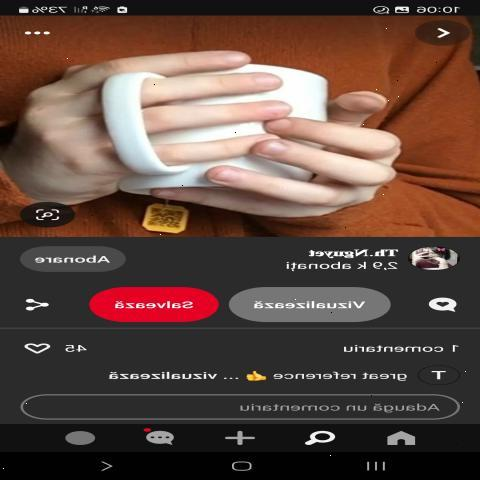Hands: (0, 17, 291, 205), (143, 68, 434, 234)
